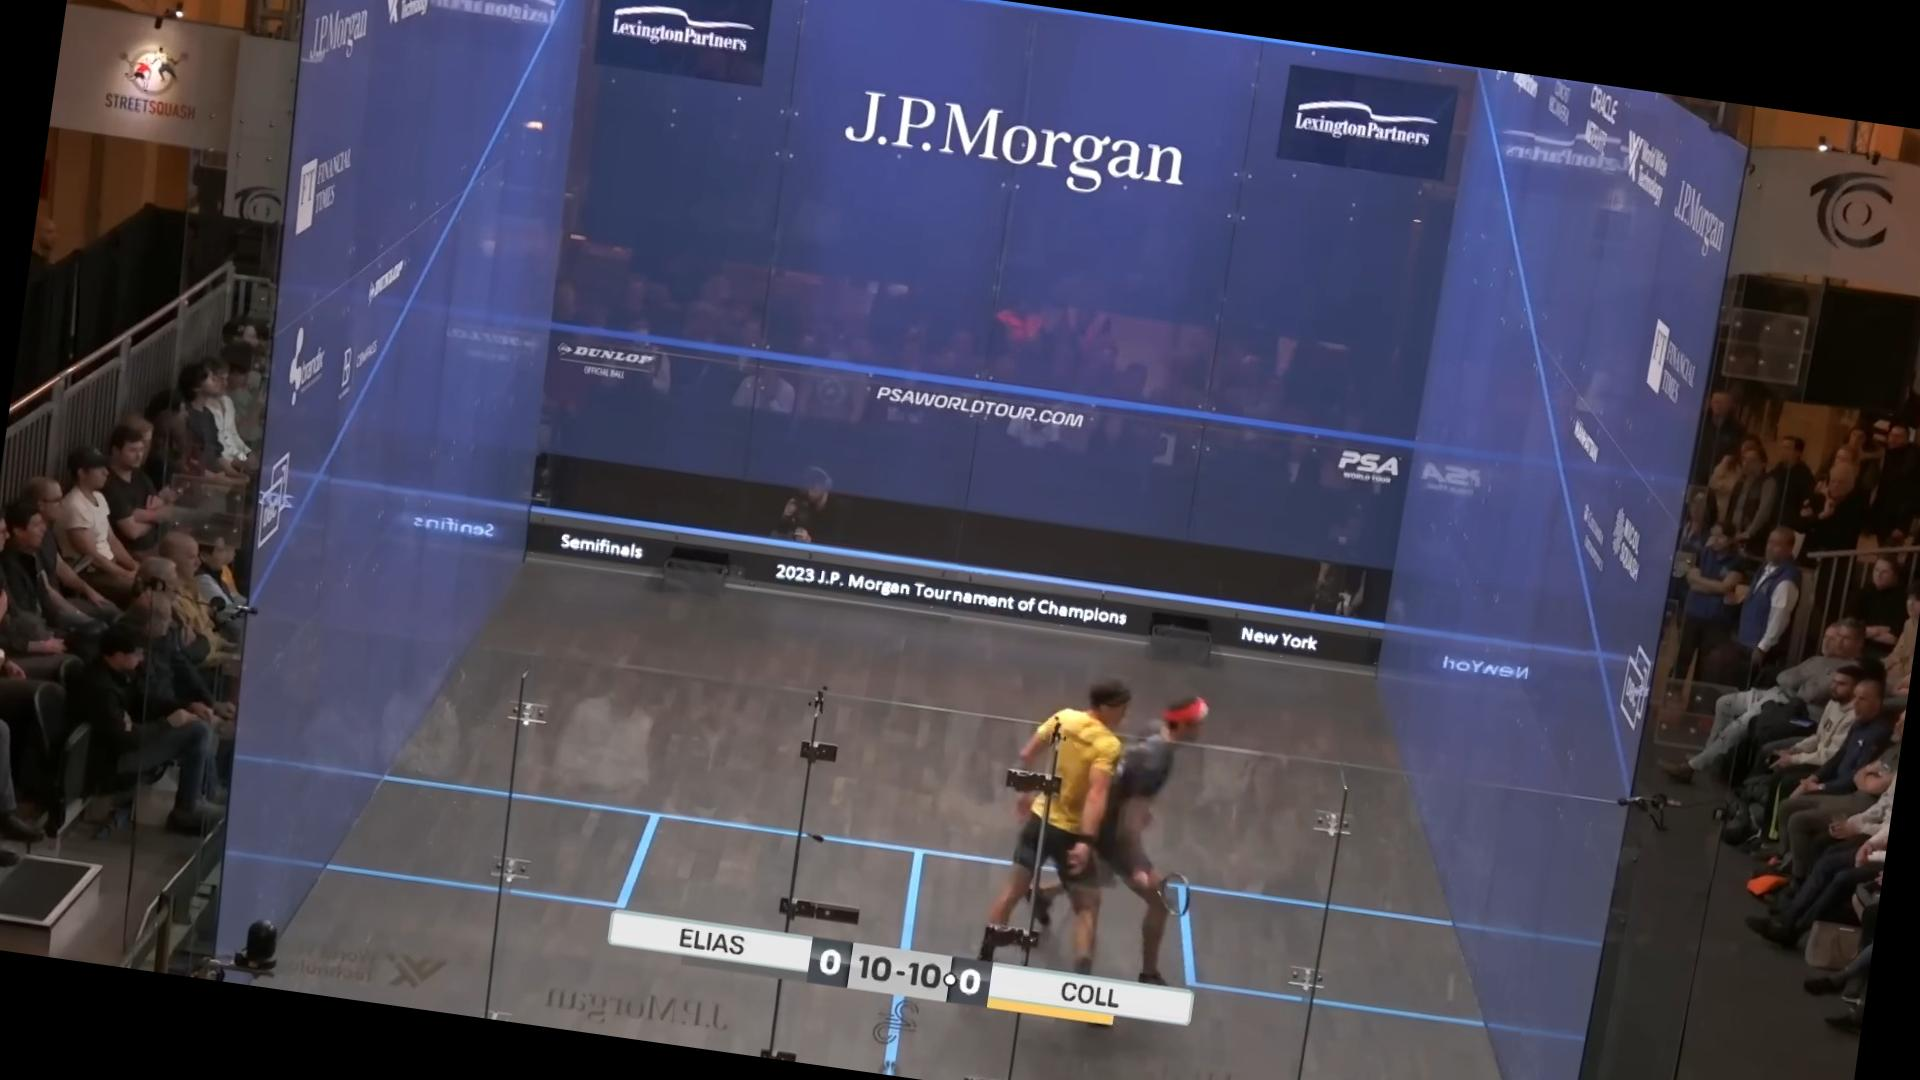Racket: (1143, 861, 1209, 927)
